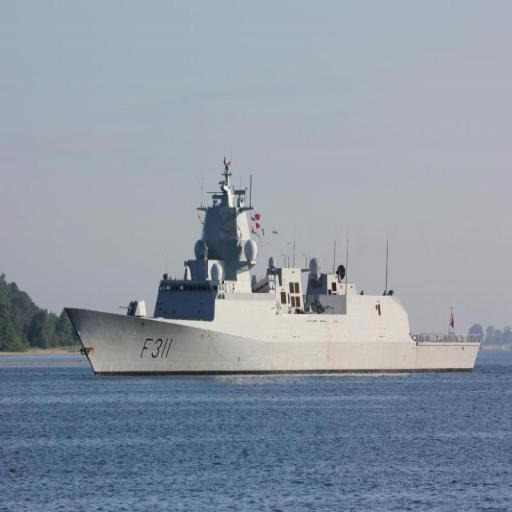Fragata: (66, 153, 485, 387)
